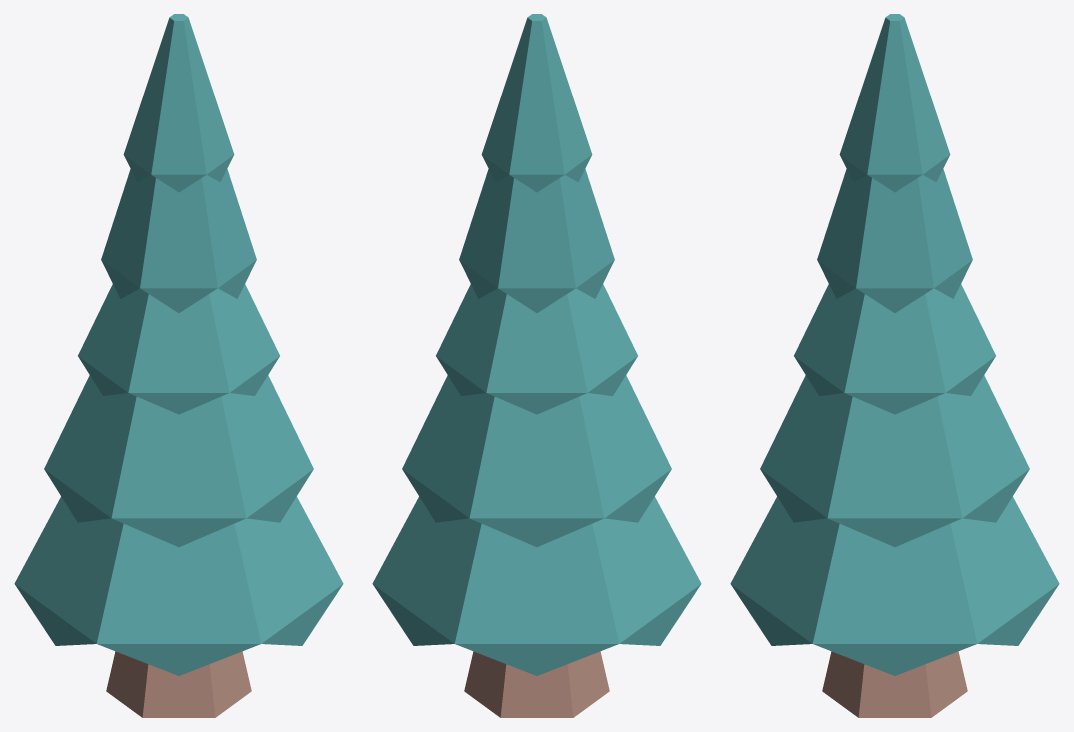
Rendered from pine-round.glb.
The picture shows the model from 3 angles, left to right: view 1: azimuth 30°, elevation 25°; view 2: azimuth 150°, elevation 25°; view 3: azimuth 270°, elevation 25°; orthographic projection.
Parts seen in each view (by area): view 1: tree_pineRoundC; view 2: tree_pineRoundC; view 3: tree_pineRoundC.
Part boxes in pixels (<box>): tree_pineRoundC: <box>14,14,343,717</box>; tree_pineRoundC: <box>372,14,701,717</box>; tree_pineRoundC: <box>730,14,1059,717</box>.
Size of the model in its own units: 0.2642 by 0.6891 by 0.3051.
